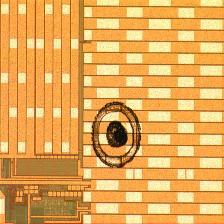PARTICLE: (81, 99, 153, 171)
